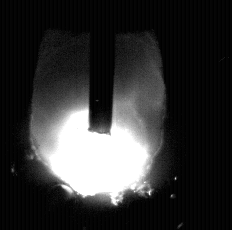arame: (90, 0, 114, 135)
poca: (29, 0, 166, 230)
